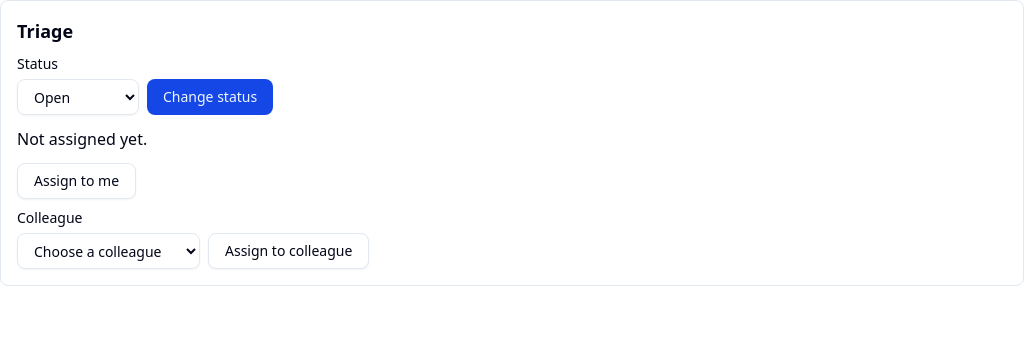
Test case: staff assign the ticket to themselves by their user name
Step 1. Click the button "Assign to me" → (76, 181), box [17,163,136,199]
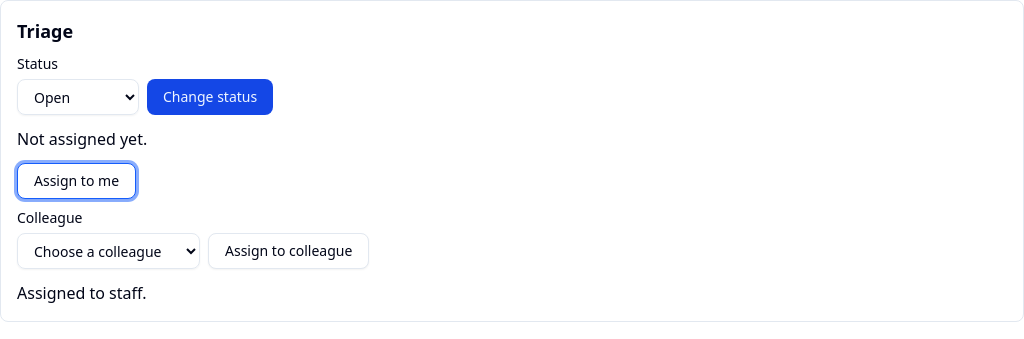
Result: the message reads "Assigned to staff." at [17,282,146,304]
